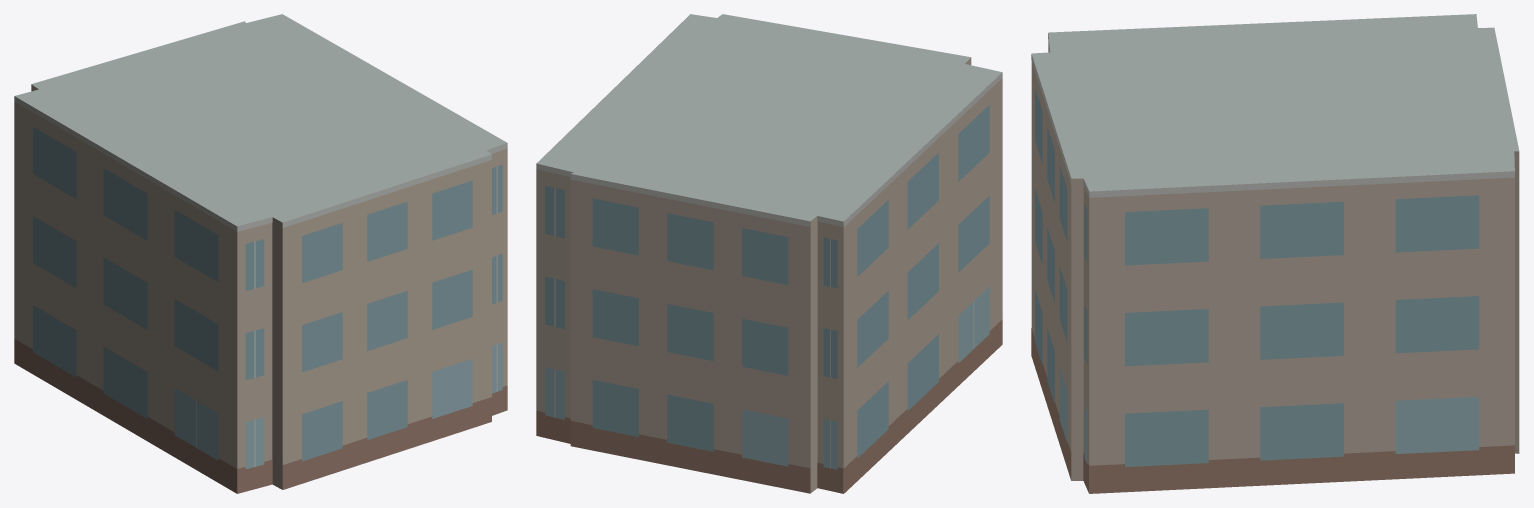
File: survey-upis-32959878.glb
3 views of the same model, side by side, from view 1: azimuth 30°, elevation 25°; view 2: azimuth 150°, elevation 25°; view 3: azimuth 270°, elevation 25° (orthographic). The views are drawn at different scales.
Parts seen in each view (by area): view 1: survey-upis-32959878.tmp; view 2: survey-upis-32959878.tmp; view 3: survey-upis-32959878.tmp.
Part boxes in pixels (x1,y1,x2,y2): survey-upis-32959878.tmp: (14,14,507,493); survey-upis-32959878.tmp: (536,14,1002,493); survey-upis-32959878.tmp: (1031,14,1519,493).
Bounding box in the file's own units: 14.81 × 11.75 × 17.2.
